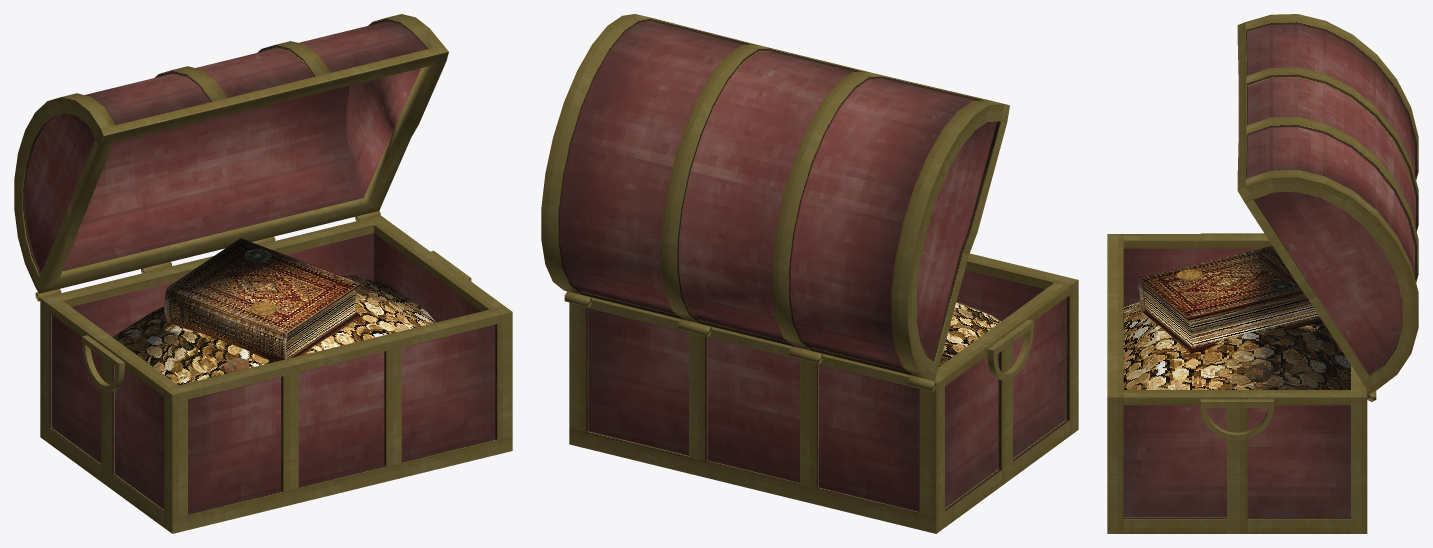
File: chest_grimoir.glb
The picture shows the model from 3 angles, left to right: view 1: azimuth 30°, elevation 25°; view 2: azimuth 150°, elevation 25°; view 3: azimuth 270°, elevation 25°; orthographic projection. The views are drawn at different scales.
Visible parts, largest first — view 1: bottom, Top_empty, Cylinder.001, handles; view 2: Top_empty, bottom, Cylinder.001, handles; view 3: Top_empty, bottom, Cylinder.001, handles.
Part boxes in pixels (x1=…): bottom: x1=40, y1=215, x2=512, y2=533; Top_empty: x1=14, y1=14, x2=448, y2=301; Cylinder.001: x1=112, y1=238, x2=435, y2=385; handles: x1=82, y1=250, x2=471, y2=391; Top_empty: x1=541, y1=14, x2=1009, y2=391; bottom: x1=569, y1=253, x2=1078, y2=533; Cylinder.001: x1=939, y1=301, x2=1000, y2=366; handles: x1=987, y1=320, x2=1033, y2=380; Top_empty: x1=1237, y1=14, x2=1418, y2=401; bottom: x1=1107, y1=234, x2=1367, y2=533; Cylinder.001: x1=1123, y1=246, x2=1350, y2=389; handles: x1=1200, y1=233, x2=1273, y2=440.
Bounding box in the file's own units: 1.54 × 1.51 × 1.2.
Materials: 3 (3 with a texture image).
